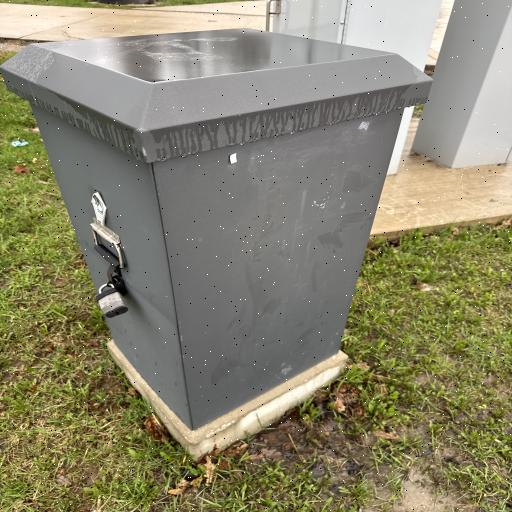Electrical Box: (2, 26, 433, 434)
